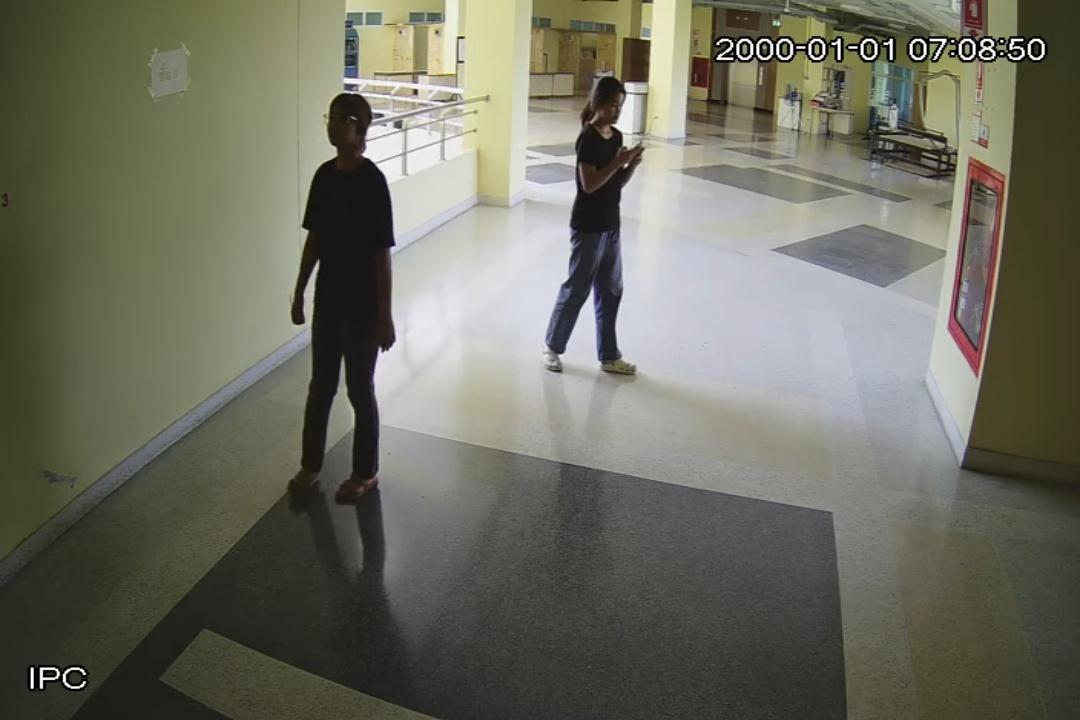normal: (289, 93, 399, 499), (543, 79, 640, 378)
